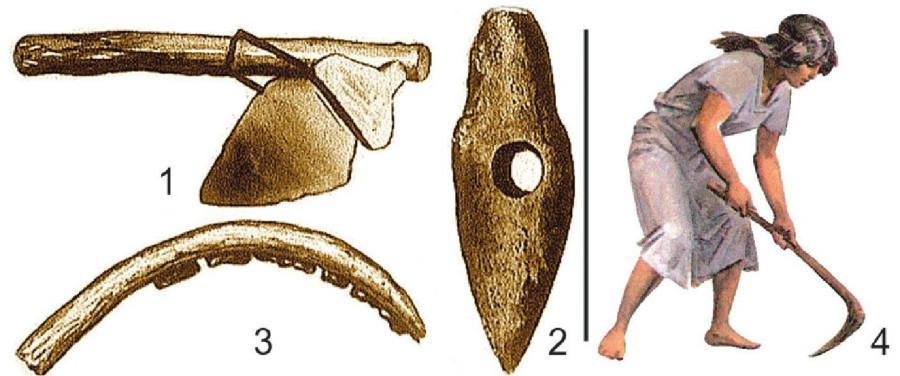foice: (767, 206, 872, 362)
